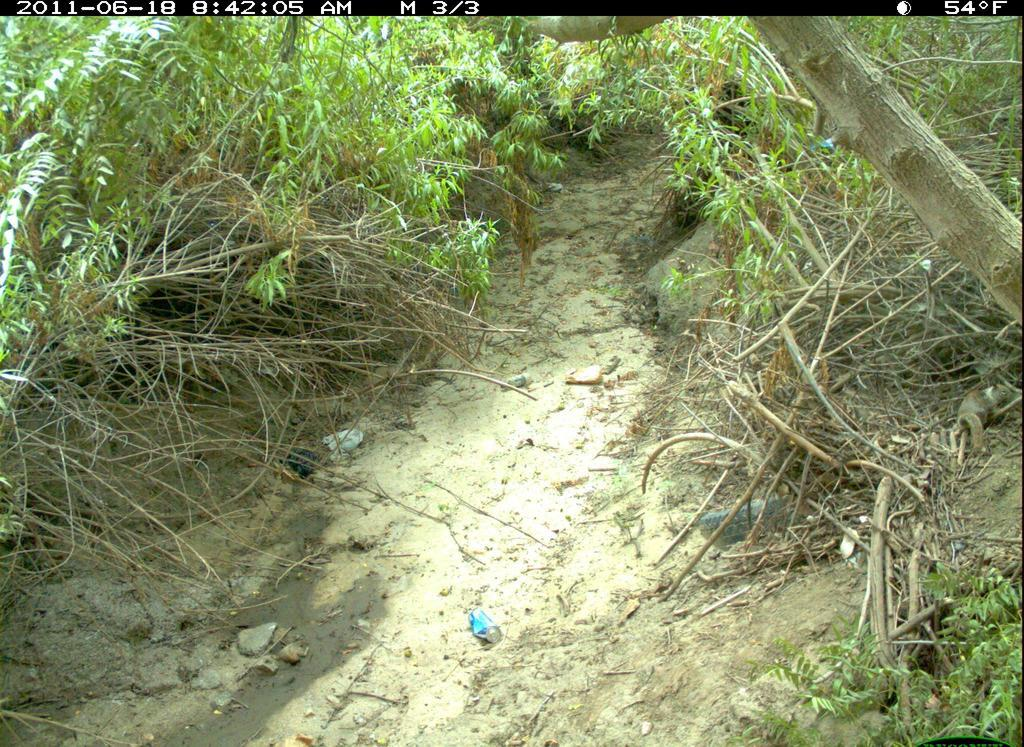squirrel: (952, 377, 1018, 464)
